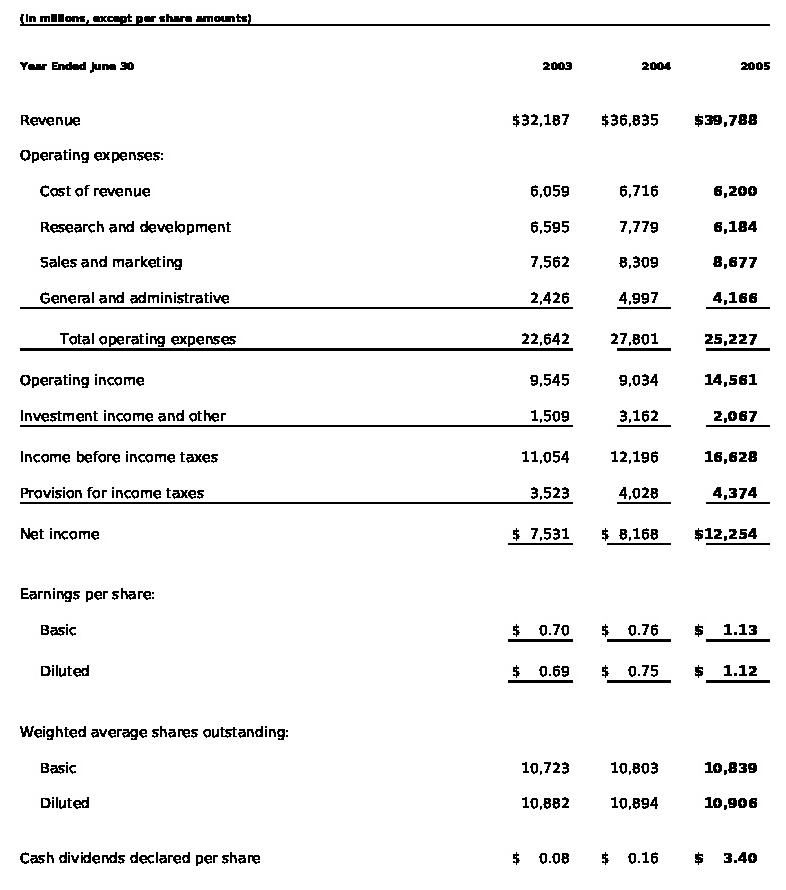table: (0, 0, 786, 890)
